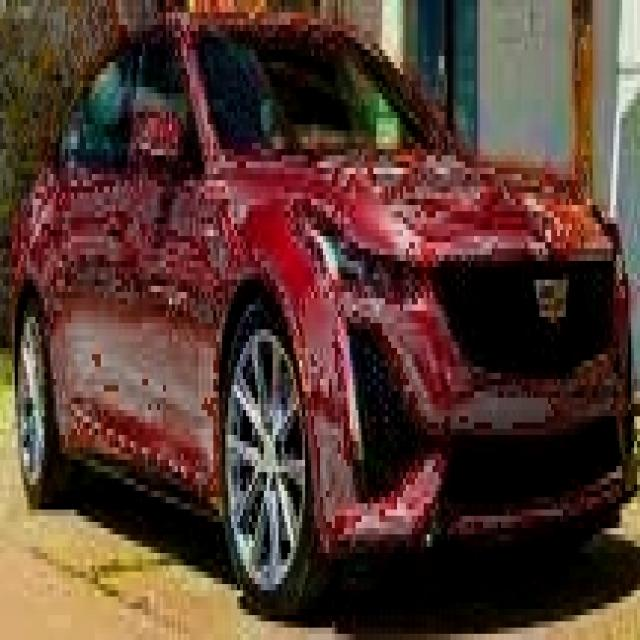maroon: (18, 9, 625, 550)
